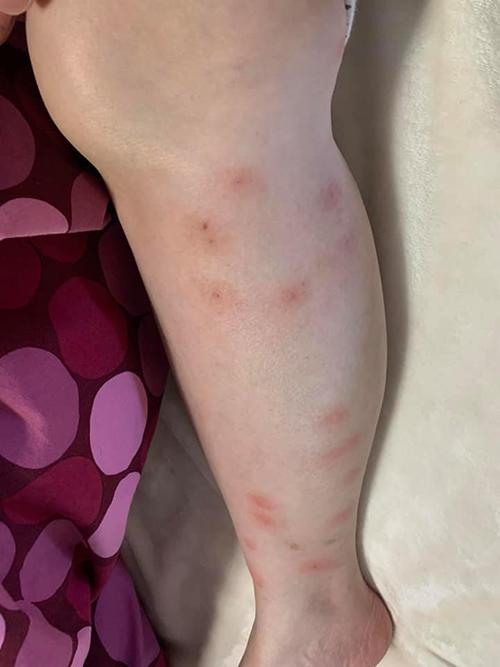Fleas: (182, 154, 276, 269), (239, 464, 289, 541), (188, 267, 242, 330), (309, 523, 356, 583), (195, 207, 239, 259), (312, 171, 353, 223), (276, 277, 322, 319)
